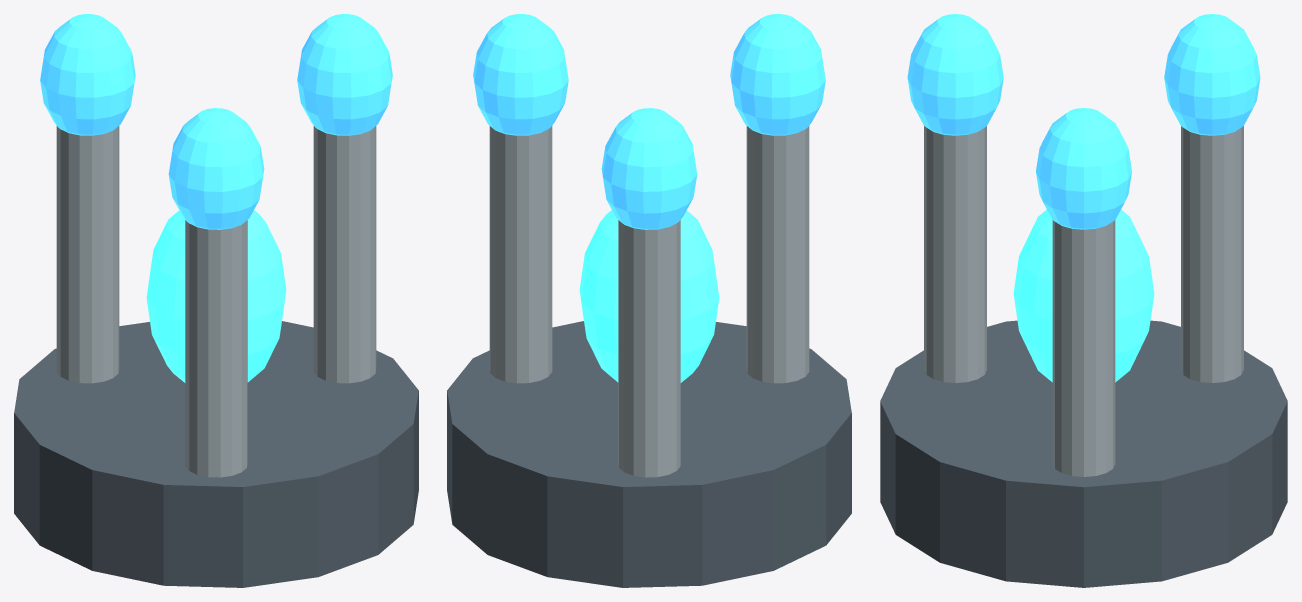
File: energy-defense.glb
3 renders of one model, left to right at view 1: azimuth 30°, elevation 25°; view 2: azimuth 150°, elevation 25°; view 3: azimuth 270°, elevation 25°, orthographic.
Visible parts, largest first — view 1: shield powerbase, shield emitter tower.001, shield emitter tower, shield emitter tower.002, energy core, shield emitter.001, shield emitter, shield emitter.002; view 2: shield powerbase, shield emitter tower.002, shield emitter tower, shield emitter tower.001, energy core, shield emitter.002, shield emitter, shield emitter.001; view 3: shield powerbase, shield emitter tower, shield emitter tower.001, shield emitter tower.002, energy core, shield emitter.001, shield emitter.002, shield emitter.
Boxes of the visible parts, bbox=[...] form: shield powerbase: bbox=[14, 321, 418, 587]; shield emitter tower.001: bbox=[56, 126, 119, 383]; shield emitter tower: bbox=[313, 126, 376, 383]; shield emitter tower.002: bbox=[185, 220, 247, 477]; energy core: bbox=[146, 210, 286, 382]; shield emitter.001: bbox=[40, 14, 135, 135]; shield emitter: bbox=[297, 14, 392, 135]; shield emitter.002: bbox=[168, 108, 264, 229]; shield powerbase: bbox=[447, 321, 851, 587]; shield emitter tower.002: bbox=[746, 126, 809, 383]; shield emitter tower: bbox=[489, 126, 552, 383]; shield emitter tower.001: bbox=[618, 220, 680, 477]; energy core: bbox=[579, 210, 719, 382]; shield emitter.002: bbox=[730, 14, 825, 135]; shield emitter: bbox=[473, 14, 568, 135]; shield emitter.001: bbox=[601, 108, 697, 229]; shield powerbase: bbox=[880, 320, 1287, 587]; shield emitter tower: bbox=[1052, 220, 1115, 476]; shield emitter tower.001: bbox=[1181, 126, 1243, 382]; shield emitter tower.002: bbox=[924, 126, 986, 382]; energy core: bbox=[1013, 209, 1154, 382]; shield emitter.001: bbox=[1164, 14, 1260, 135]; shield emitter.002: bbox=[907, 14, 1003, 135]; shield emitter: bbox=[1036, 108, 1131, 229].
Size of the model in its own units: 1.1 by 1.35 by 1.1.
